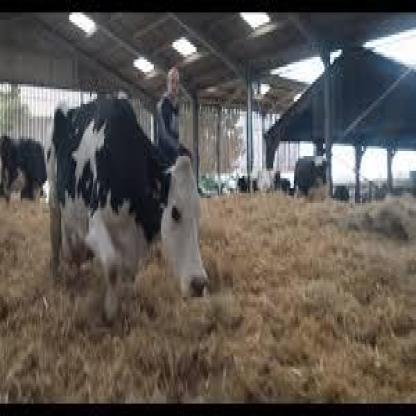cow: (48, 103, 210, 301), (1, 135, 52, 202), (293, 157, 332, 197)
